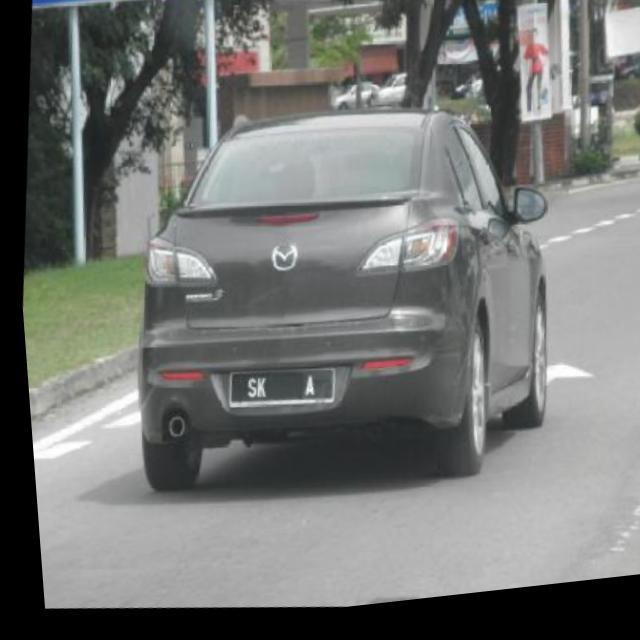license_plate: (219, 363, 331, 422)
